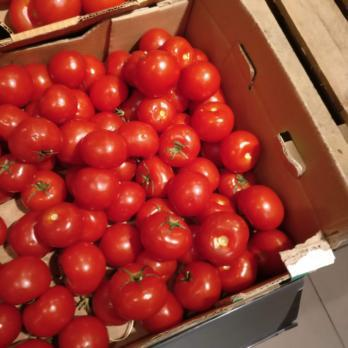Tomato: (4, 56, 129, 344), (117, 28, 229, 300)
